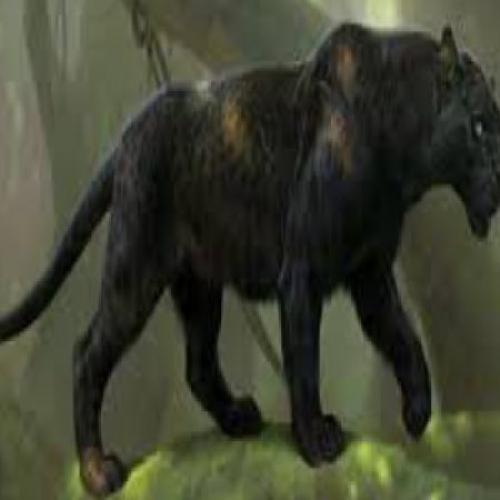panther-endangered: (12, 23, 500, 483)
